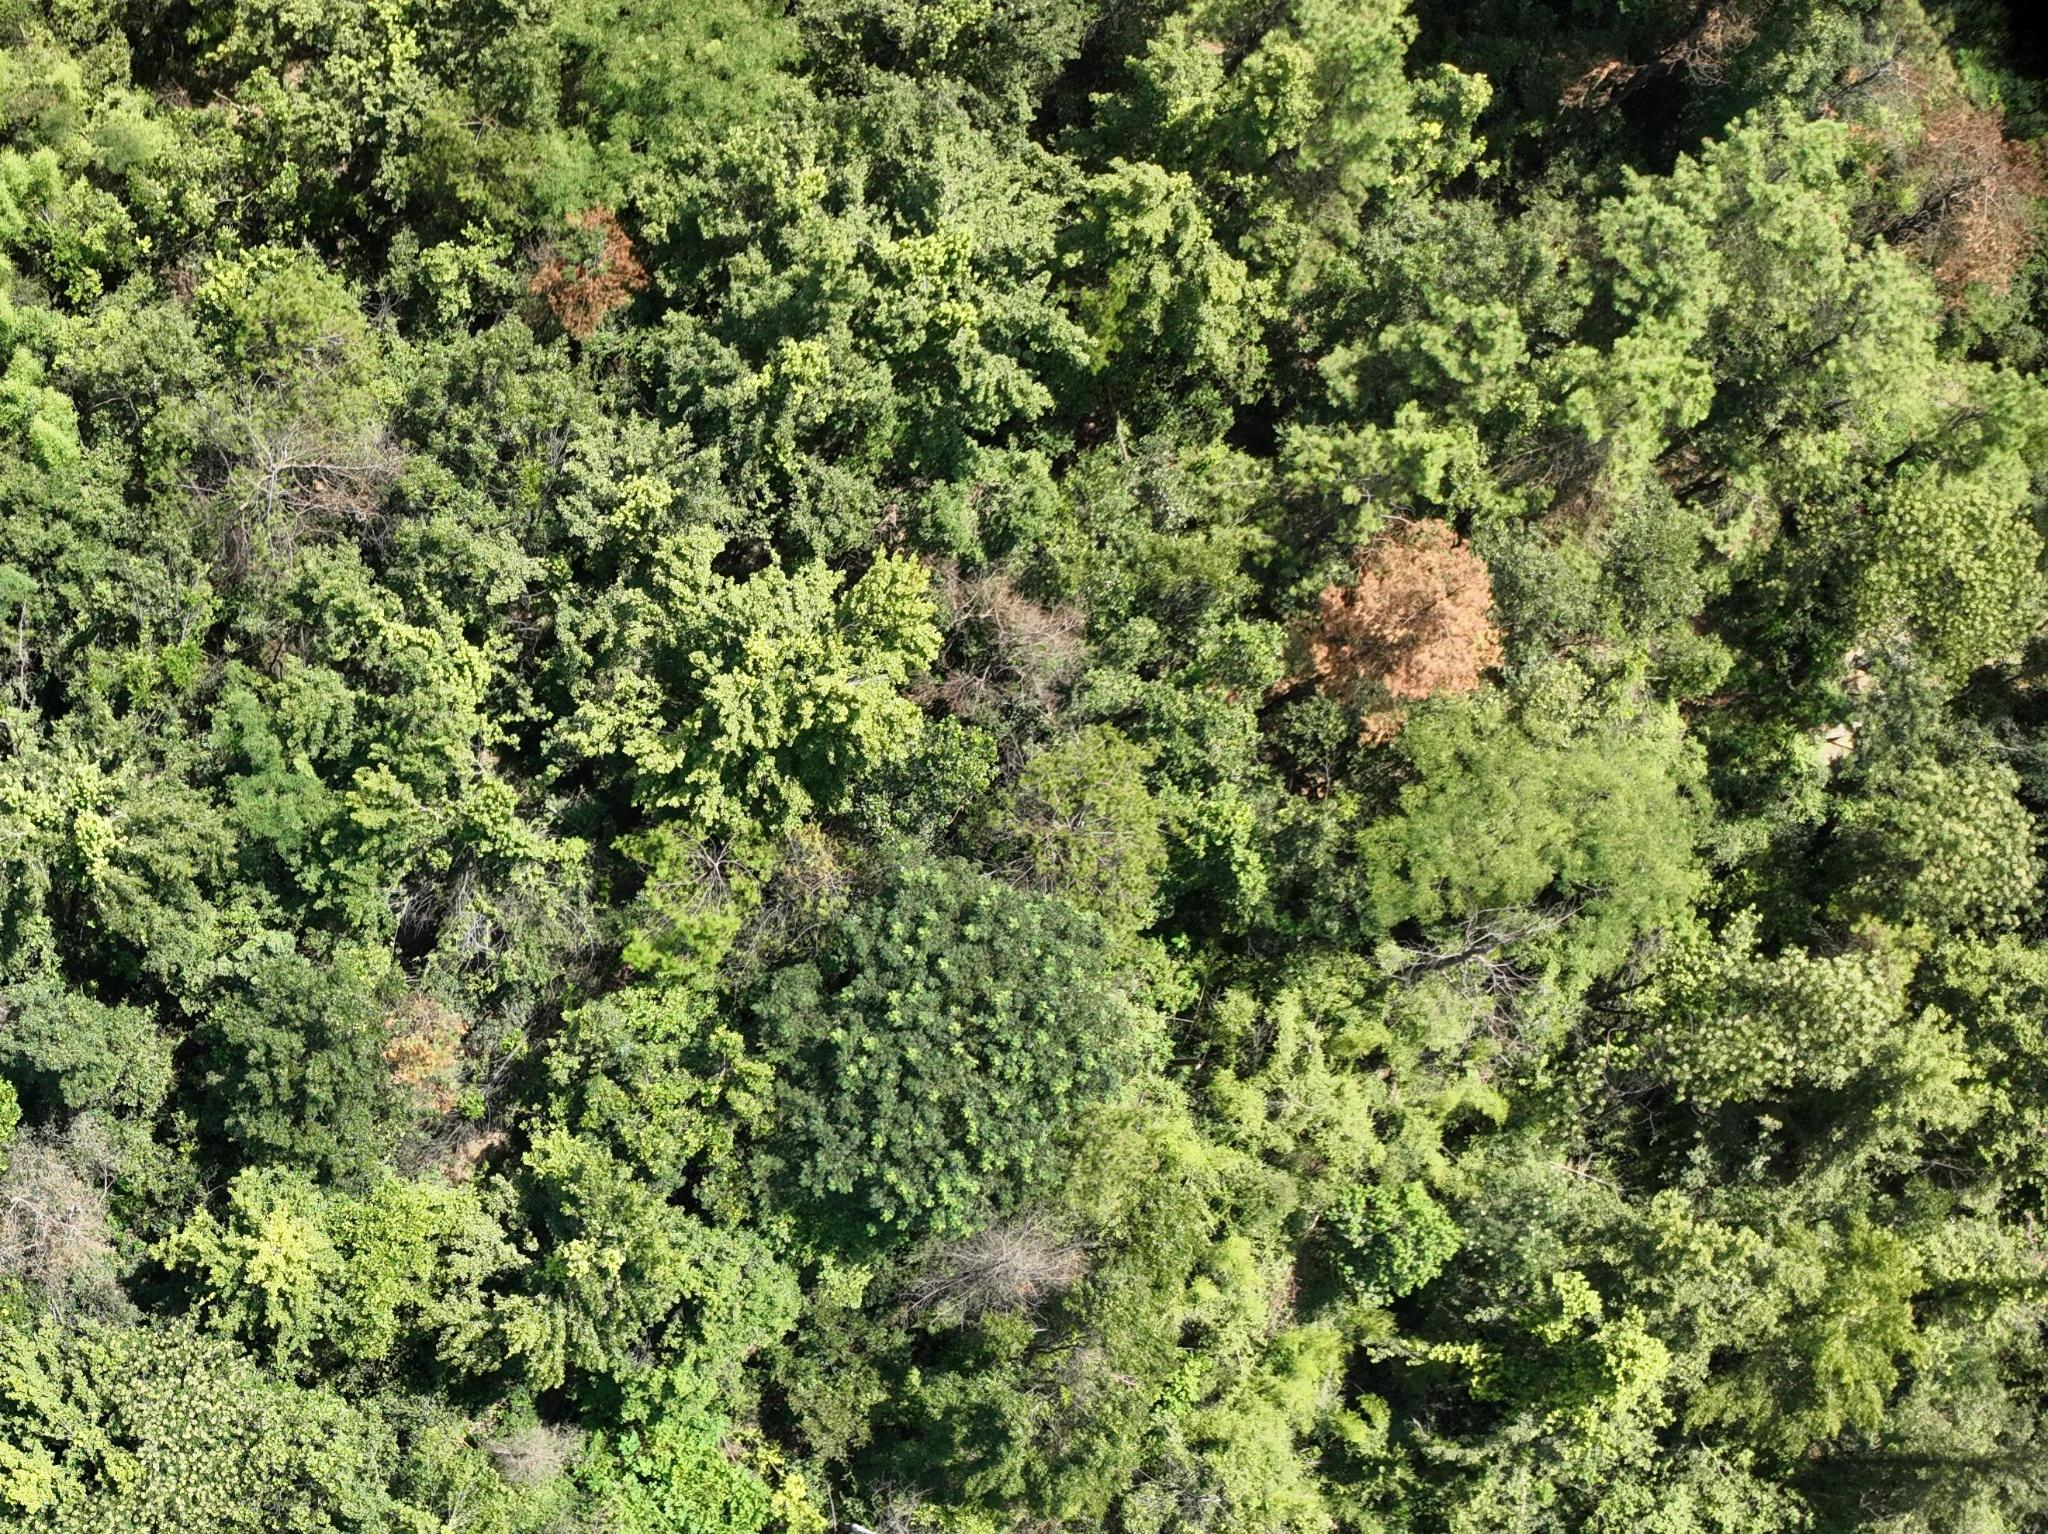dead: (938, 561, 1080, 717), (923, 1209, 1073, 1323)
heavy: (1302, 516, 1499, 744), (1898, 97, 2042, 305), (529, 201, 648, 342), (488, 1426, 564, 1484)
light: (388, 996, 462, 1113)
